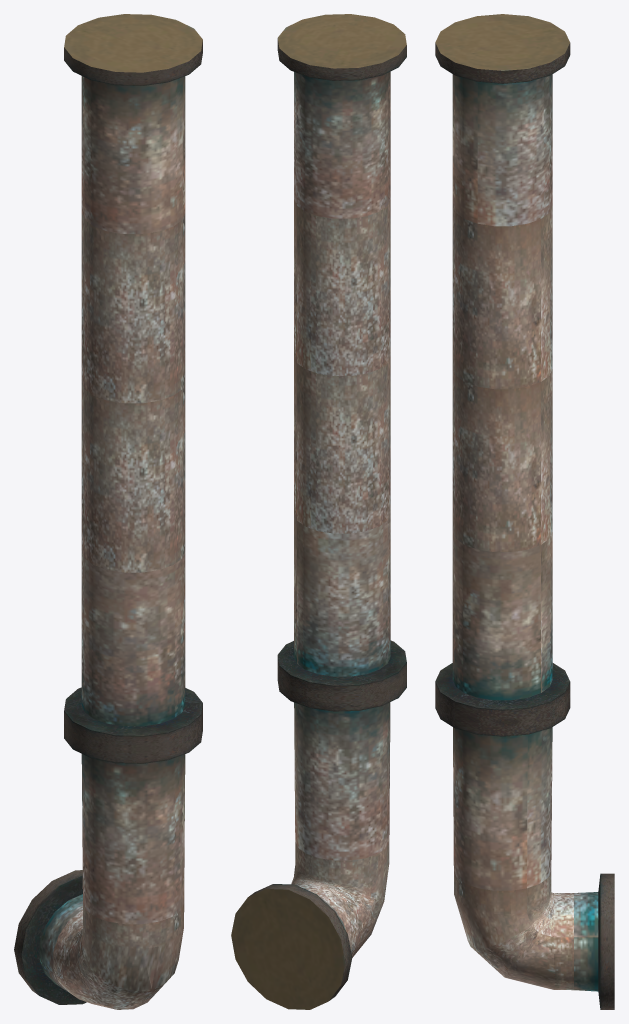
The model's file is pipe_c.obj.
The picture shows the model from 3 angles, left to right: view 1: azimuth 30°, elevation 25°; view 2: azimuth 150°, elevation 25°; view 3: azimuth 270°, elevation 25°; orthographic projection. The views are drawn at different scales.
Visible parts, largest first — view 1: pipe_c; view 2: pipe_c; view 3: pipe_c.
Part boxes in pixels (bbox=[...]): pipe_c: bbox=[14, 14, 202, 1009]; pipe_c: bbox=[231, 14, 406, 1009]; pipe_c: bbox=[435, 14, 614, 1009].
Size of the model in its own units: 48.6 by 377 by 63.84.
1 material, 1 textured.
